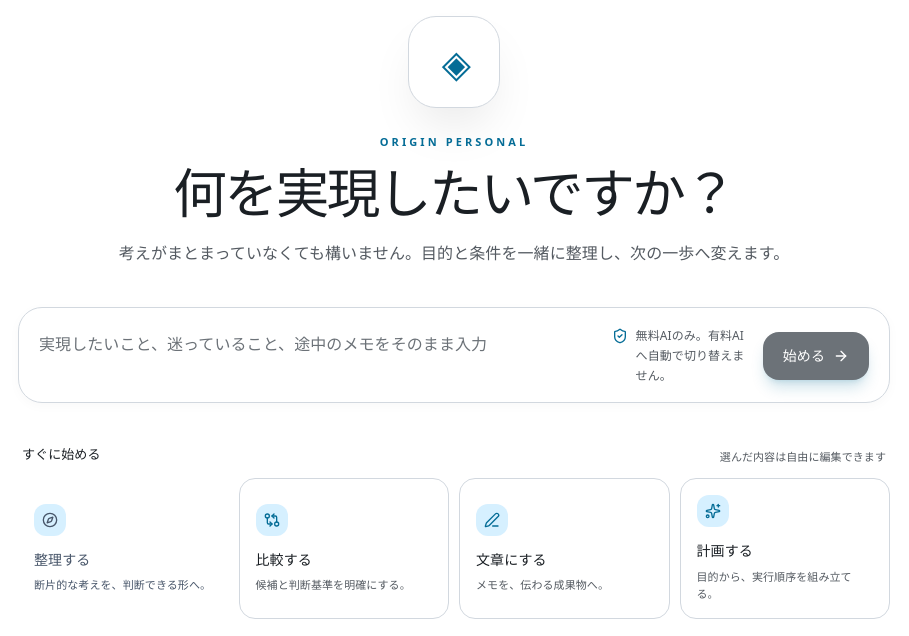
Test: PersonalDashboard › keeps starter prompts editable instead of executing them immediately
This screenshot has width=909, height=636.
Click the button "比較する 候補と判断基準を明確にする。": click(344, 548) [238,478,449,619]
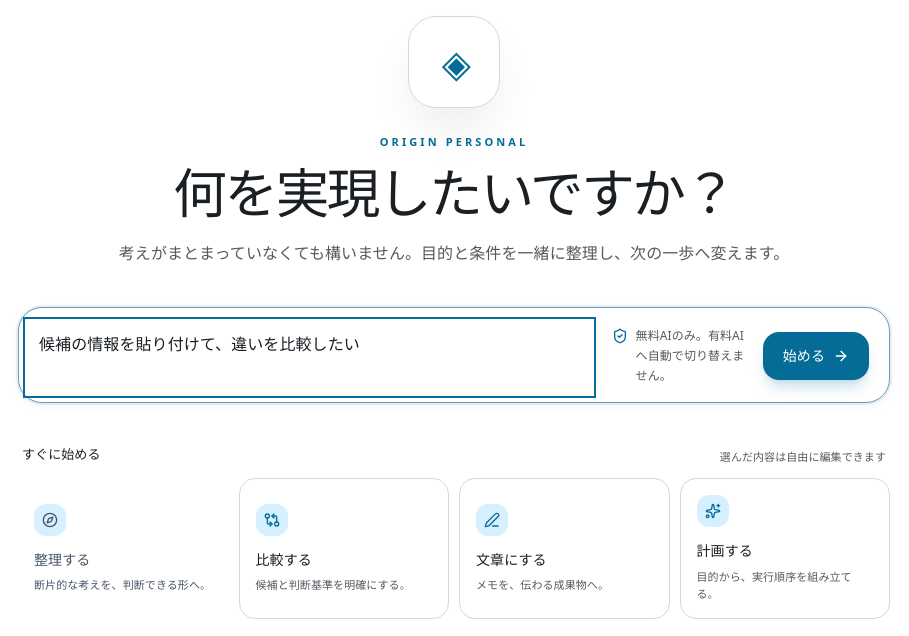
Expected: the text box named "実現したいことを入力" holds "候補の情報を貼り付けて、違いを比較したい", [27,321,592,394]
